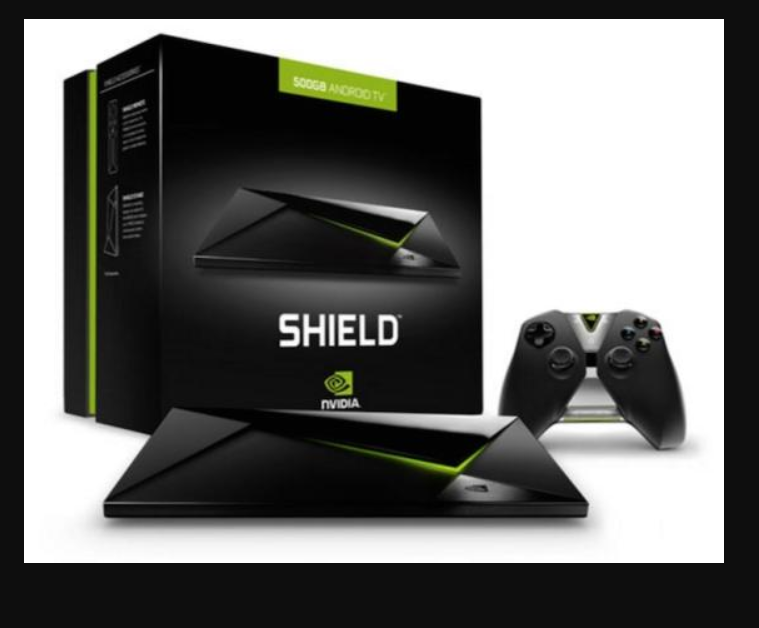gamingconsole: (497, 309, 687, 460)
